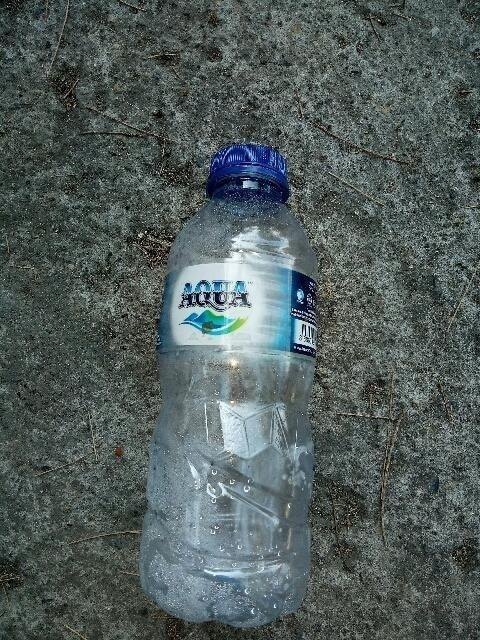bottle-plastic: (133, 138, 323, 634)
